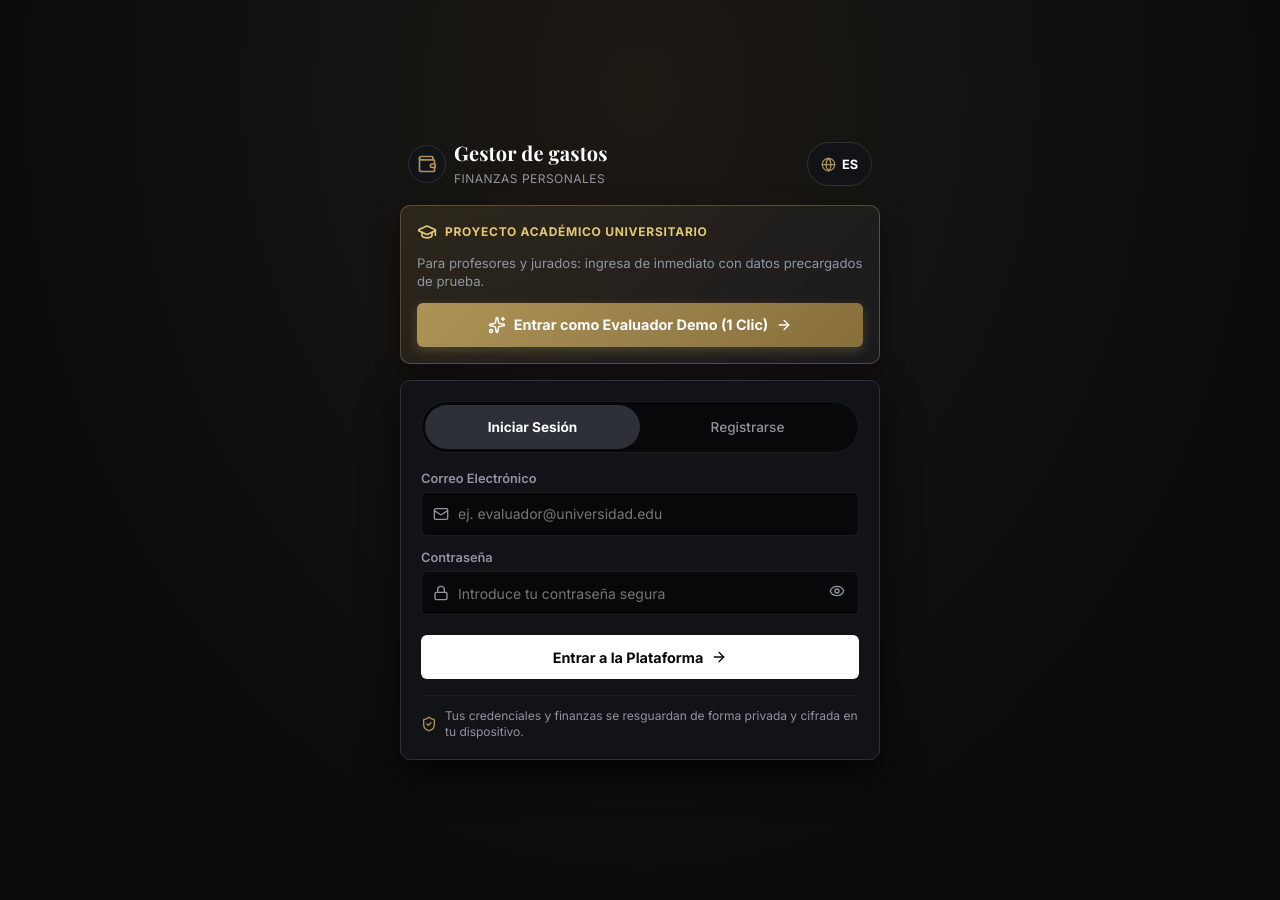
it: Autenticación y Perfiles Universitarios (Opción A) › permite acceso 1-clic inmediato a Evaluadores Académicos con datos precargados
Click the button "Entrar como Evaluador Demo (1 Clic)" at point(640, 325), box [417,303,863,347]
(page scrolled)
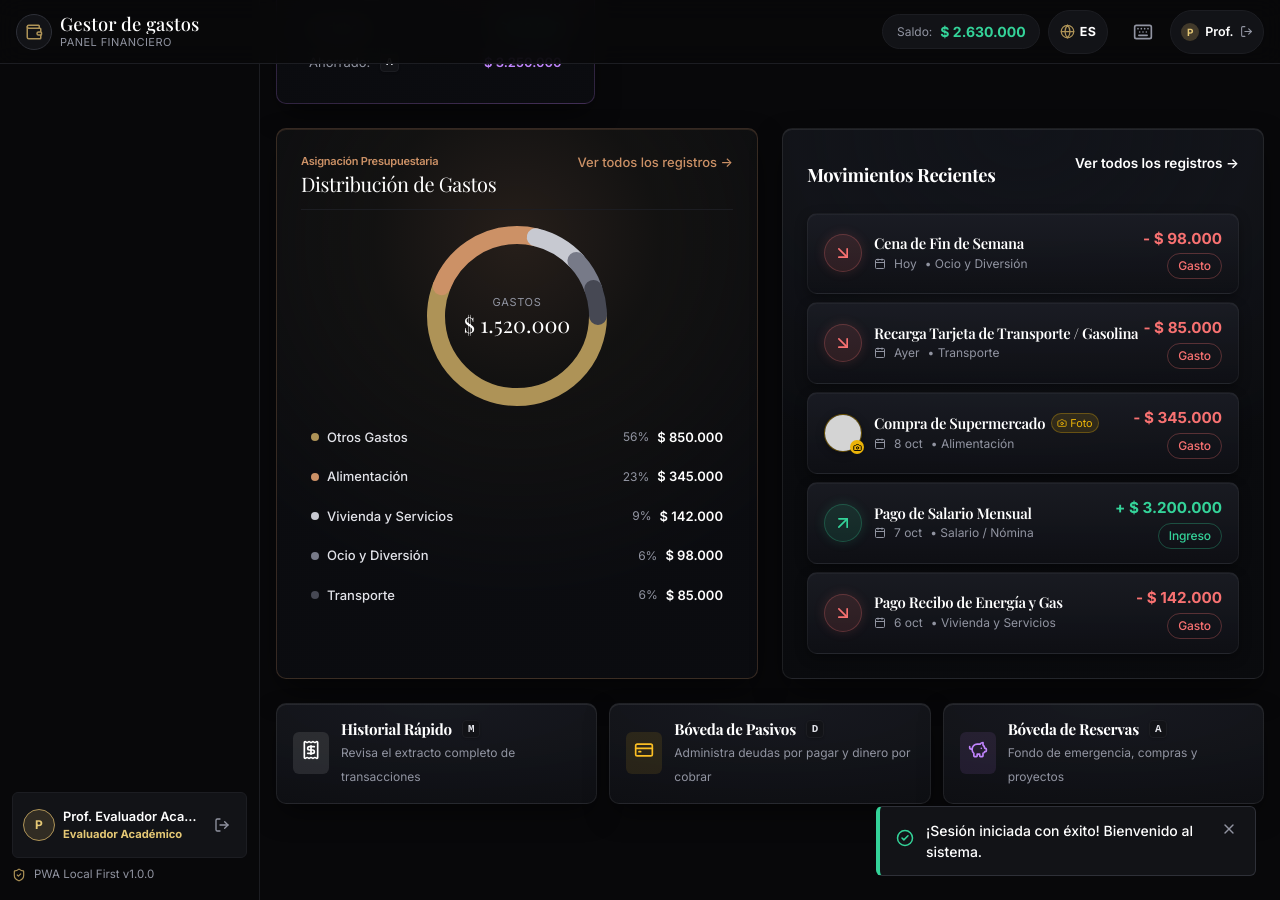
Now the text "Prof. Evaluador Académico" is shown, box [63,807,200,826]
